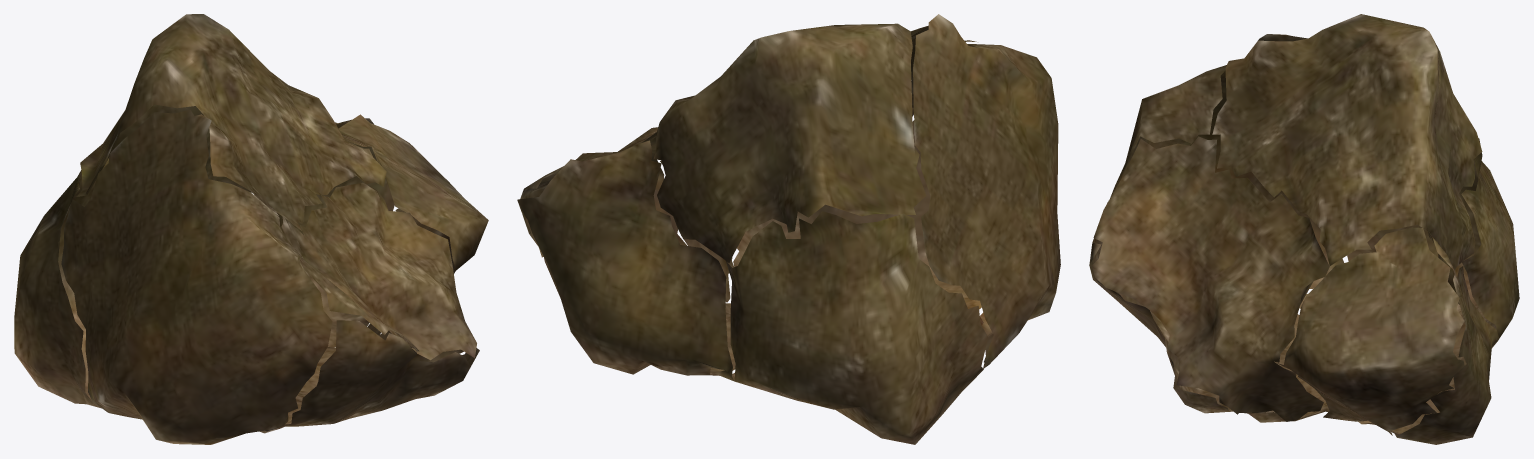
Rendered from rock_moss_set_01_rock04.glb.
3 views of the same model, side by side, from view 1: azimuth 30°, elevation 25°; view 2: azimuth 150°, elevation 25°; view 3: azimuth 270°, elevation 25° (orthographic). The views are drawn at different scales.
Parts seen in each view (by area): view 1: rock_moss_set_01_rock04; view 2: rock_moss_set_01_rock04; view 3: rock_moss_set_01_rock04.
Boxes of the visible parts, x1,y1,x2,y2 form: rock_moss_set_01_rock04: [14, 14, 488, 444]; rock_moss_set_01_rock04: [517, 14, 1060, 444]; rock_moss_set_01_rock04: [1089, 14, 1519, 444].
Bounding box in the file's own units: 2.1 × 1.72 × 1.96.
1 material, 1 textured.
